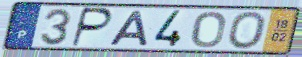3: (39, 7, 73, 47)
4: (151, 9, 184, 49)
A: (105, 10, 150, 47)
O: (226, 10, 268, 51), (190, 10, 227, 49)
P: (69, 6, 115, 49)
